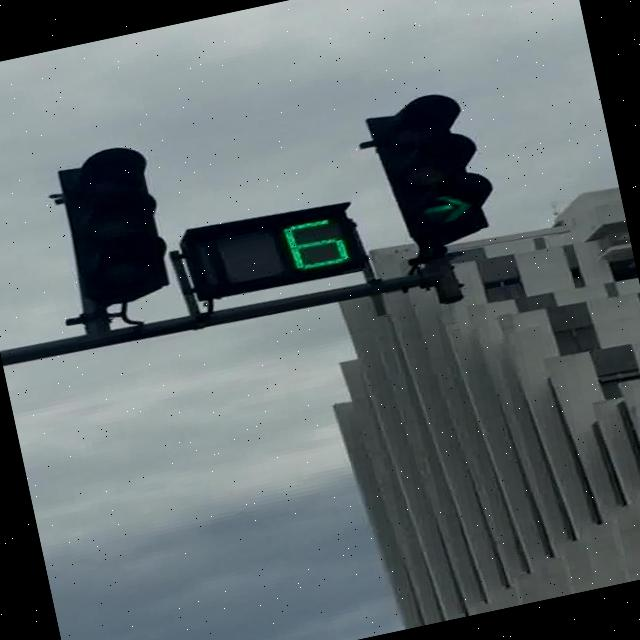green_light: (361, 86, 500, 250)
